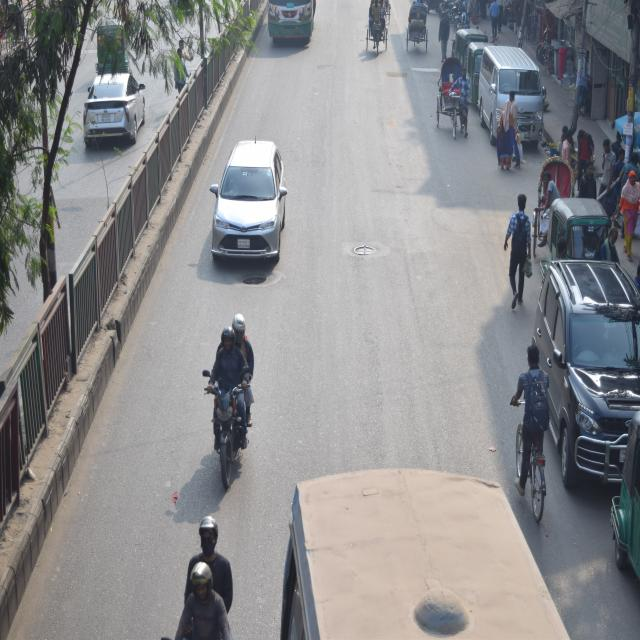bus: (280, 469, 572, 640), (266, 0, 318, 53)
car: (531, 252, 640, 499), (203, 129, 292, 275), (76, 64, 150, 147)
microbus: (480, 42, 547, 159)
motorbike: (193, 337, 261, 494), (490, 95, 525, 182)
